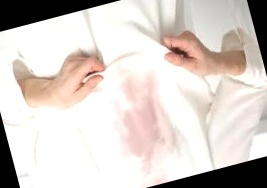wine: (107, 59, 183, 169), (133, 163, 167, 188)
